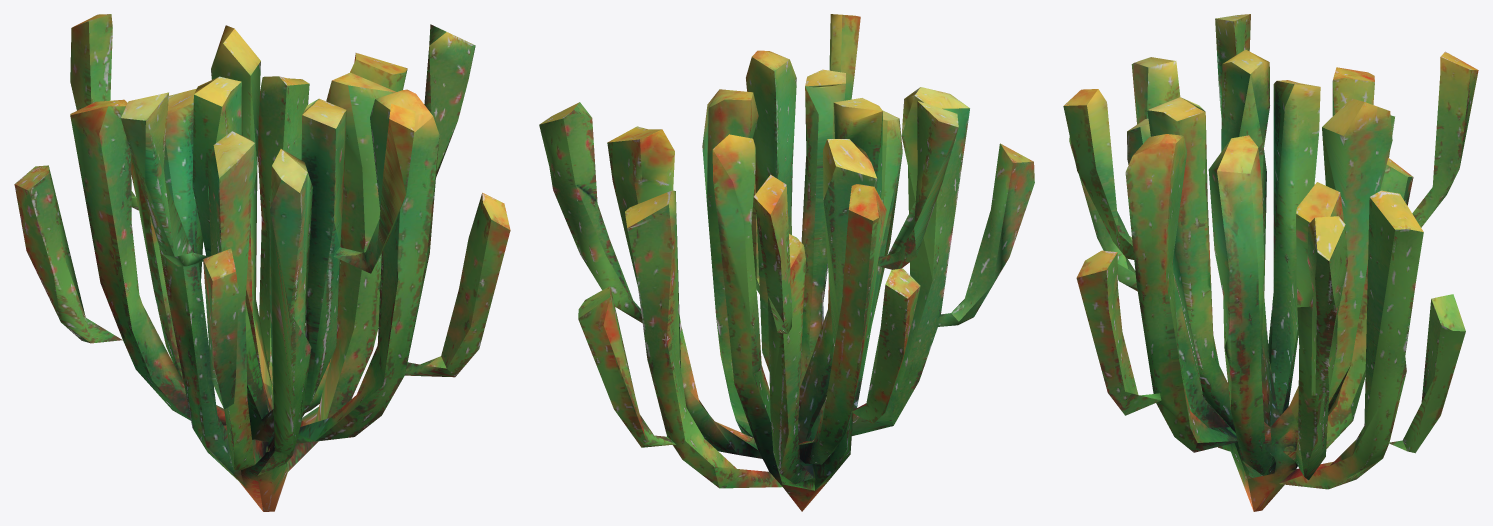
The model's file is Demo_xianrenzhang.FBX.
The picture shows the model from 3 angles, left to right: view 1: azimuth 30°, elevation 25°; view 2: azimuth 150°, elevation 25°; view 3: azimuth 270°, elevation 25°; orthographic projection. The views are drawn at different scales.
Parts seen in each view (by area): view 1: Demo02_xianrenzhang; view 2: Demo02_xianrenzhang; view 3: Demo02_xianrenzhang.
Boxes of the visible parts, bbox=[...] form: Demo02_xianrenzhang: bbox=[14, 14, 510, 511]; Demo02_xianrenzhang: bbox=[539, 14, 1034, 511]; Demo02_xianrenzhang: bbox=[1063, 14, 1478, 511].
Bounding box in the file's own units: 2.56 × 2.62 × 2.24.
